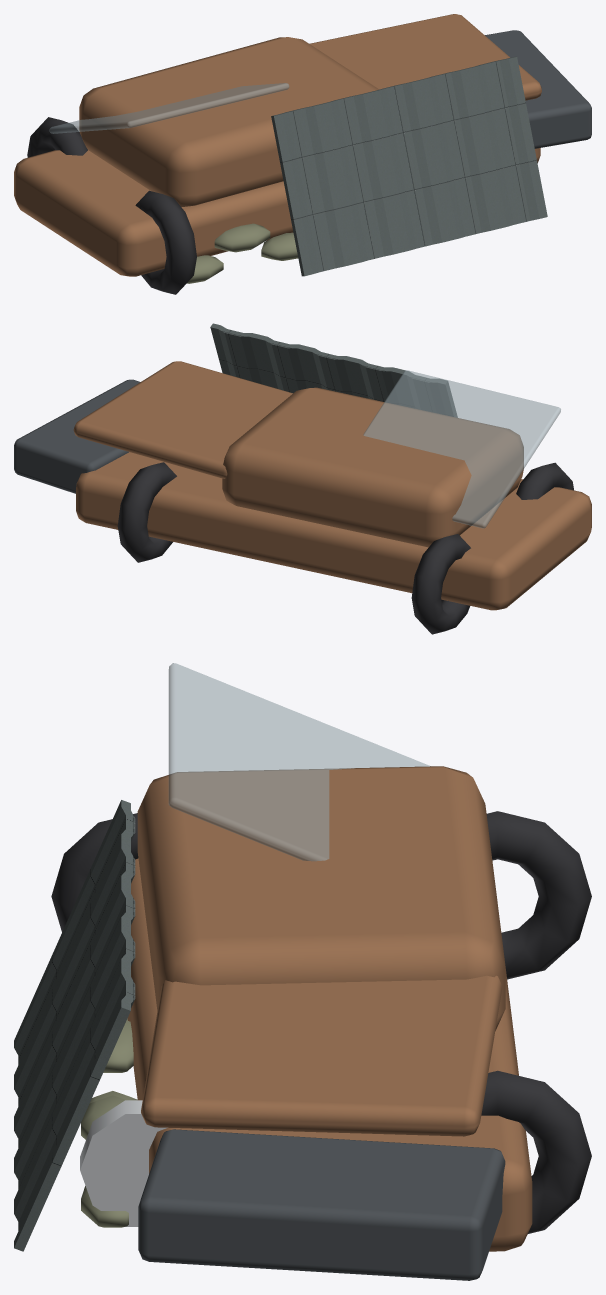
File: wreck-barricade.glb
3 renders of one model, top to bottom at view 1: azimuth 30°, elevation 25°; view 2: azimuth 150°, elevation 25°; view 3: azimuth 270°, elevation 25°, orthographic. The views are drawn at different scales.
Visible parts, largest first — view 1: wreck-barricade; view 2: wreck-barricade; view 3: wreck-barricade.
Part boxes in pixels (x1=…): wreck-barricade: x1=14, y1=14, x2=591, y2=294; wreck-barricade: x1=14, y1=323, x2=591, y2=634; wreck-barricade: x1=14, y1=663, x2=591, y2=1280.
Size of the model in its own units: 5.02 by 1.6 by 2.82.
Materials: 7 (1 with a texture image).
